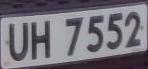2: (123, 7, 144, 50)
5: (85, 12, 105, 54), (105, 11, 124, 51)
7: (61, 14, 84, 60)
H: (29, 18, 54, 64)
U: (5, 19, 31, 65)
